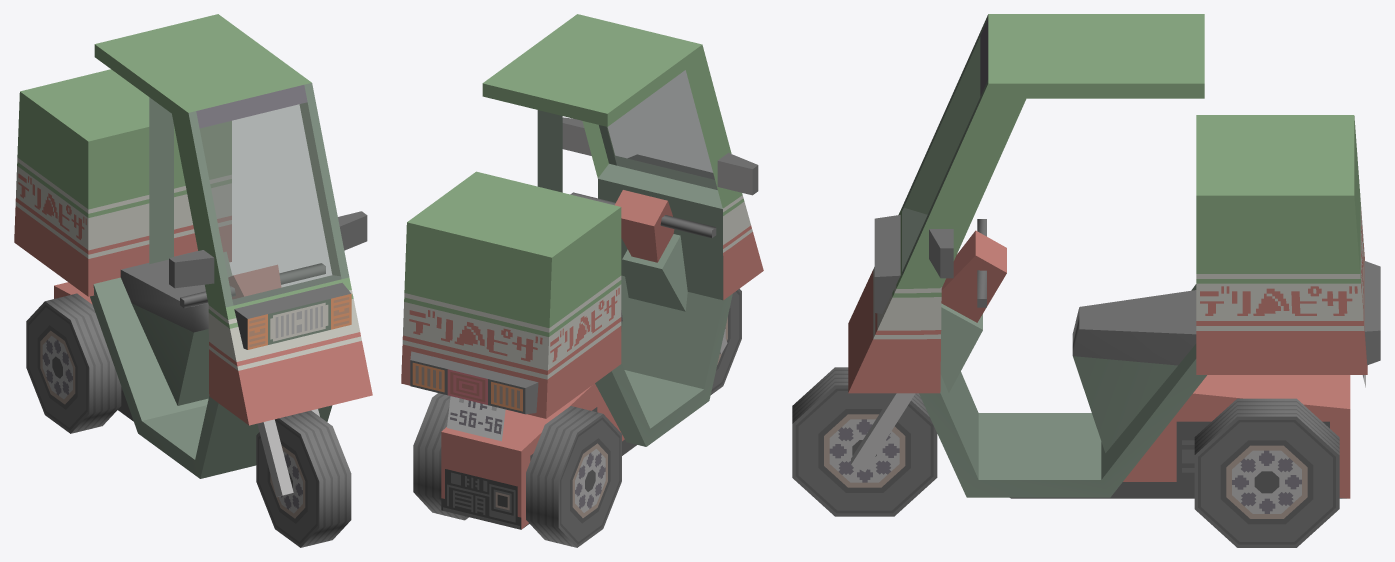
Rendered from 0156_Pizza_Delivery_Bike.glb.
The picture shows the model from 3 angles, left to right: view 1: azimuth 30°, elevation 25°; view 2: azimuth 150°, elevation 25°; view 3: azimuth 270°, elevation 25°; orthographic projection. The views are drawn at different scales.
Visible parts, largest first — view 1: part_0, part_2, part_1; view 2: part_0, part_2, part_1; view 3: part_0, part_2, part_1.
Boxes of the visible parts, left/top/right/bottom form: part_0: left=14, top=14, right=372, bottom=497; part_2: left=26, top=293, right=121, bottom=433; part_1: left=256, top=410, right=351, bottom=547; part_0: left=401, top=14, right=763, bottom=529; part_2: left=413, top=393, right=621, bottom=547; part_1: left=711, top=288, right=741, bottom=394; part_0: left=848, top=14, right=1380, bottom=498; part_2: left=1194, top=398, right=1339, bottom=547; part_1: left=792, top=367, right=937, bottom=516.
Bounding box in the file's own units: 0.858 × 1.69 × 1.97.
3 materials, 3 textured.
